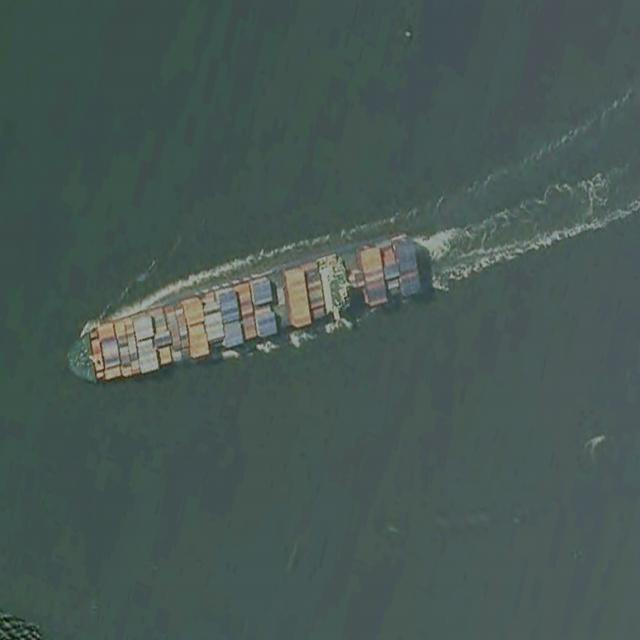Container Ship: (60, 227, 425, 397)
